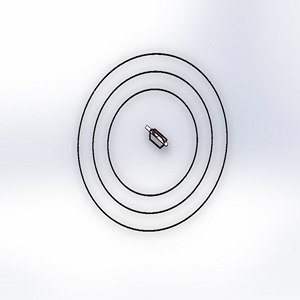circle: (68, 49, 234, 237)
submarine: (137, 117, 176, 161)
